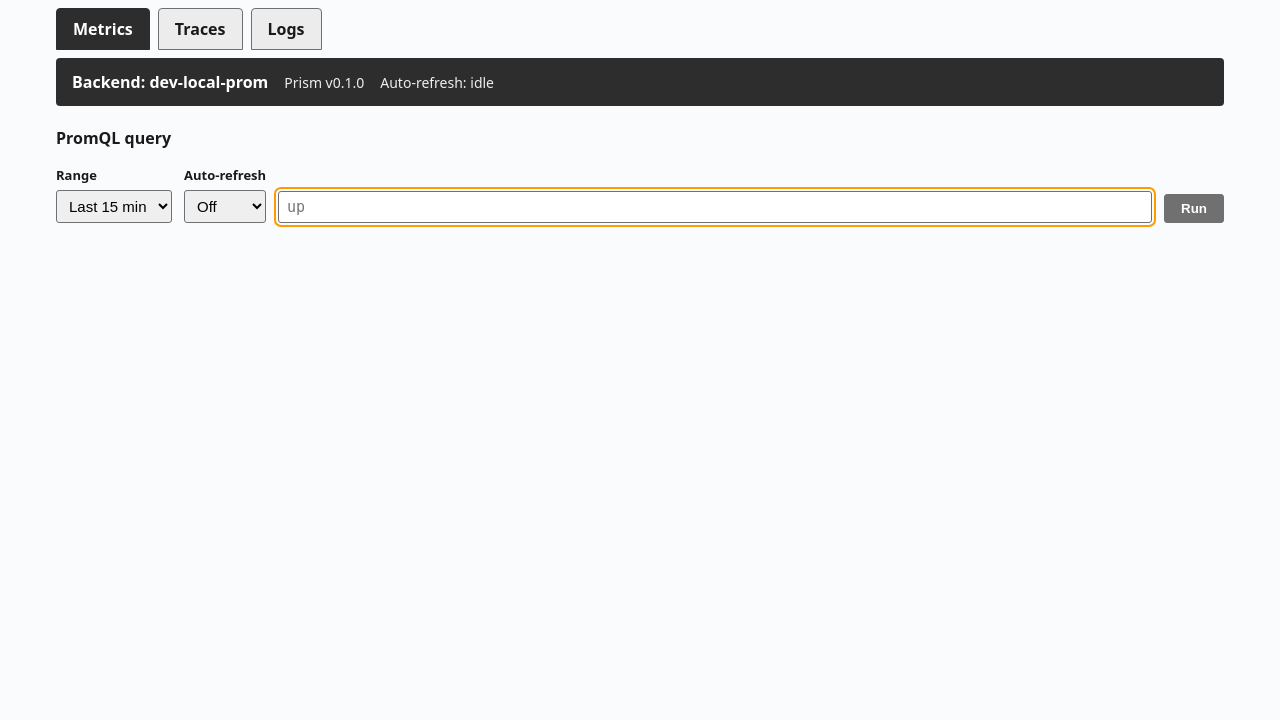
Test: Slice 08 routing — Logs is a first-class route › offers a Logs nav item that mounts the LogsExplorerPanel, leaving Metrics and Traces intact
Expected: the link with test id "nav-metrics" is shown, left=56, top=8, right=150, bottom=50
Expected: the link with test id "nav-traces" is shown, left=158, top=8, right=242, bottom=50
Click the link with test id "nav-logs". click: coordinates (286, 29)
box: left=250, top=8, right=322, bottom=50
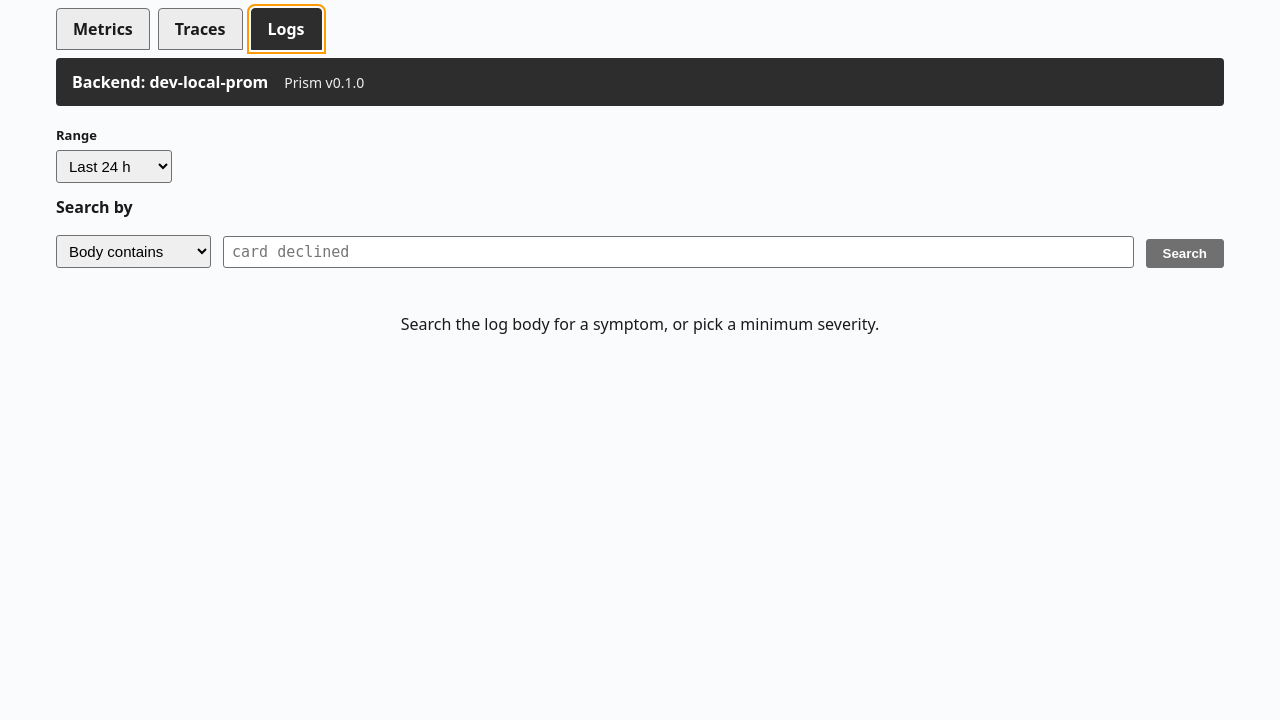
Expected: the element with test id "logs-explorer-panel" is shown, left=56, top=58, right=1224, bottom=334
# Traces still reachable and unbroken.
Click the link with test id "nav-traces". click: coordinates (200, 29)
box: left=158, top=8, right=242, bottom=50
(page scrolled)
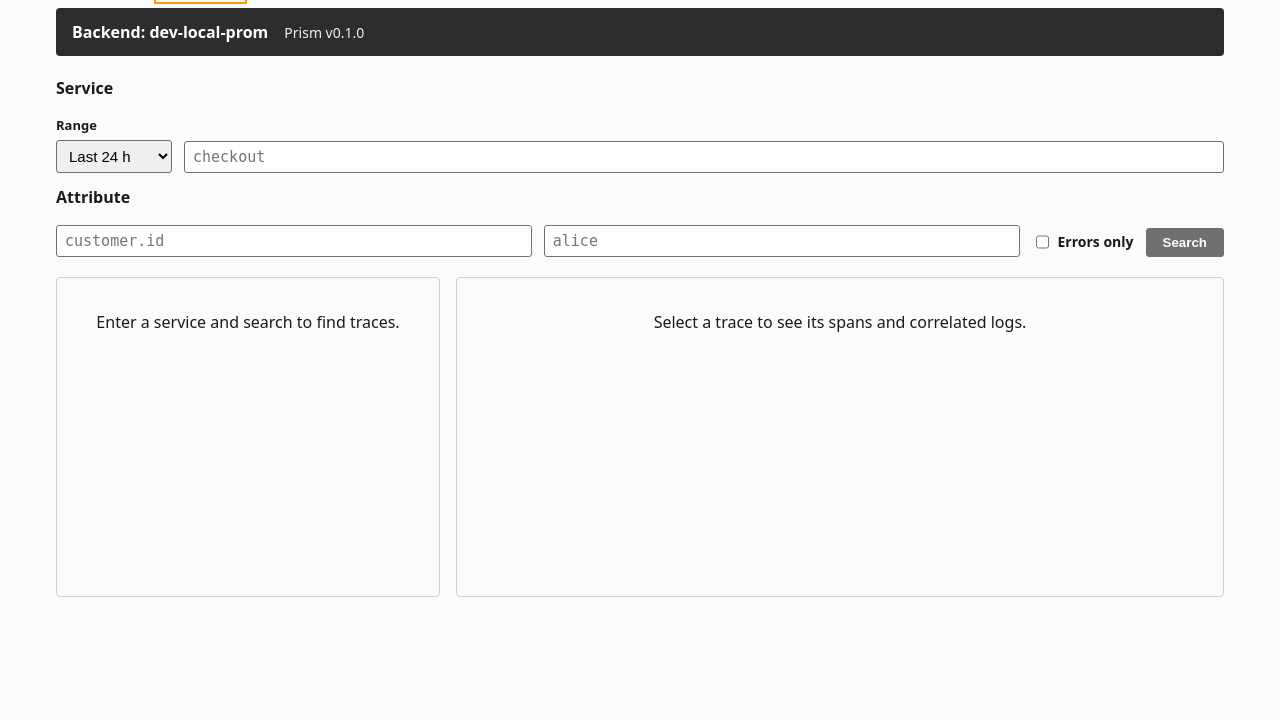
Expected: the element with test id "trace-explorer-panel" is shown
